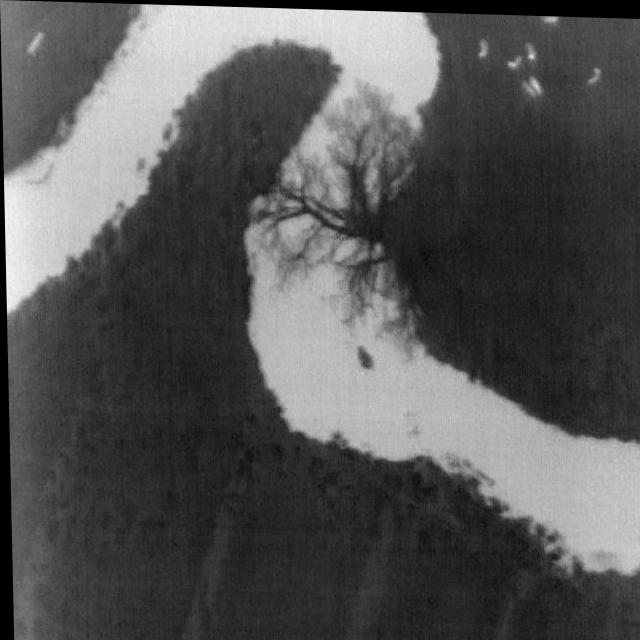deer: (25, 31, 45, 56), (586, 63, 602, 82), (528, 72, 543, 92), (476, 35, 489, 56), (507, 51, 523, 67), (521, 76, 535, 94), (524, 38, 537, 57), (541, 13, 561, 22)
